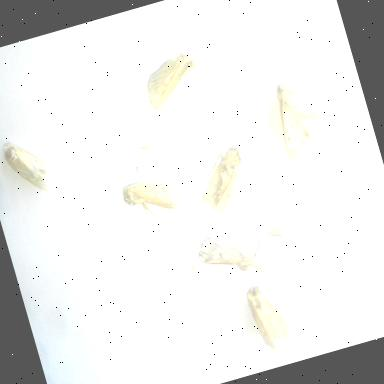abw: (264, 67, 338, 174), (186, 136, 264, 224), (238, 272, 304, 368), (134, 42, 214, 118), (190, 222, 273, 292), (0, 127, 65, 207), (117, 164, 195, 230)
